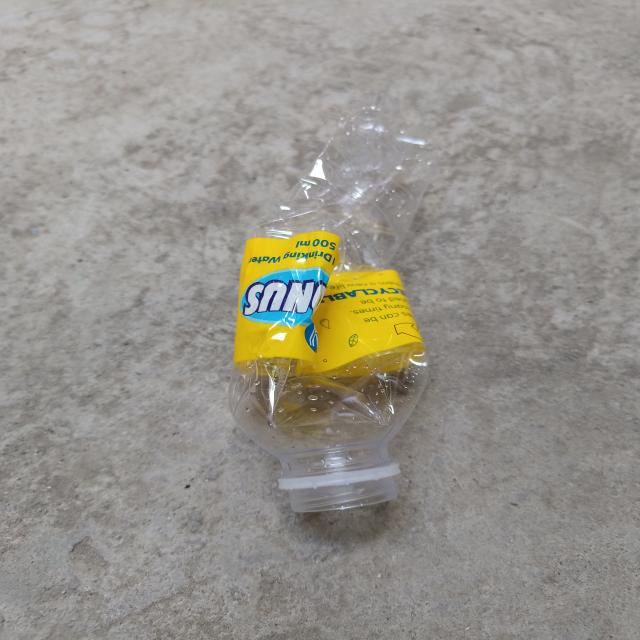Bottle: (228, 104, 434, 513)
